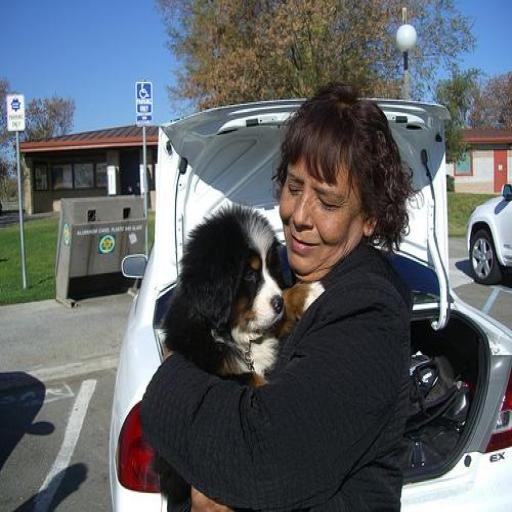dog_face: (180, 212, 292, 340)
